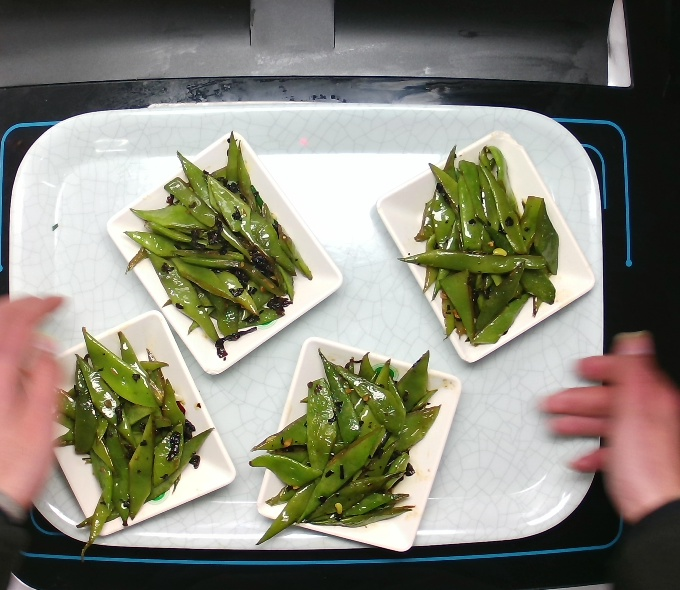wcq-ChaoSiJiDou: (117, 126, 309, 368), (243, 342, 448, 544), (401, 132, 578, 357), (60, 320, 217, 543)
